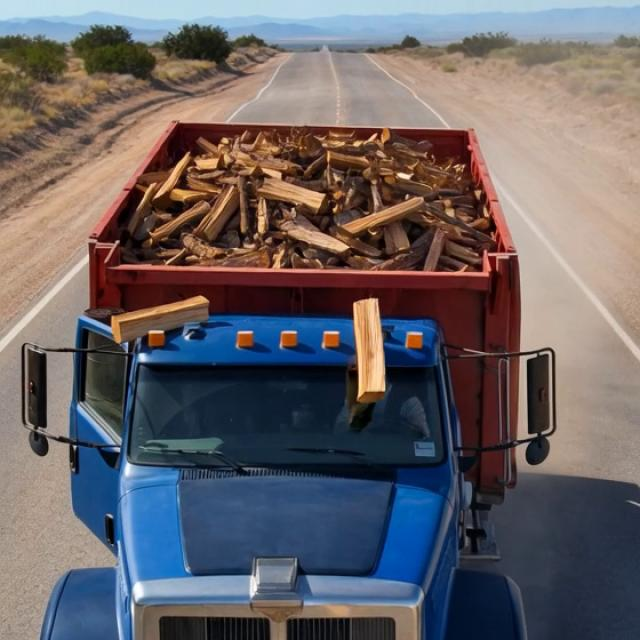Box: (79, 108, 526, 300)
Truck: (20, 92, 588, 636)
